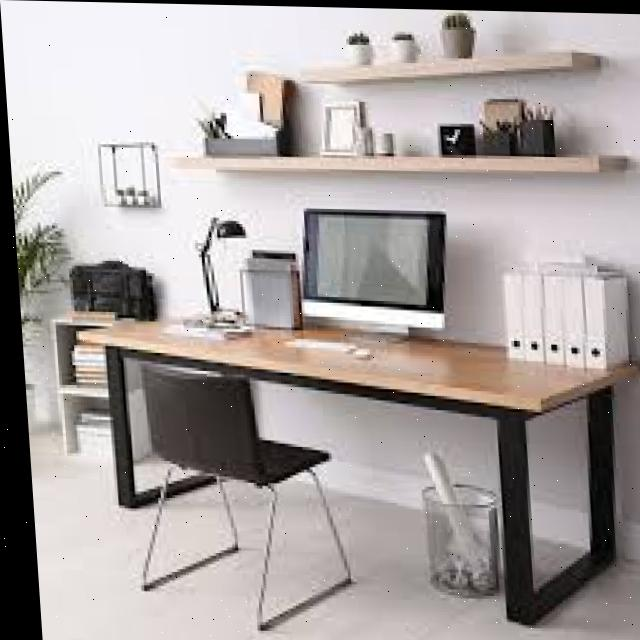chair: (122, 360, 347, 636)
computer: (271, 207, 445, 361)
table: (97, 312, 620, 627)
